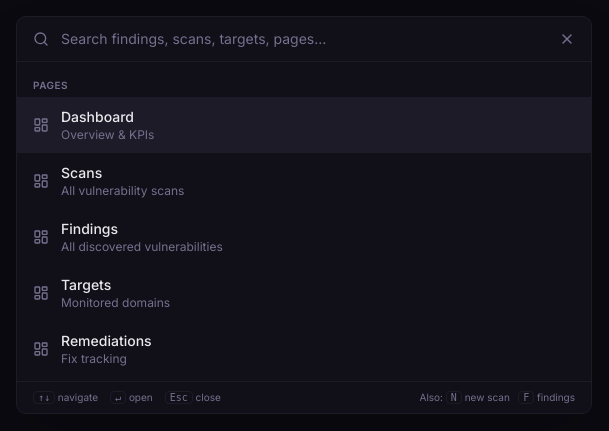
Test case: CommandPalette › filters page results when the user types
Type "cvss" into the field with placeholder "Search findings, scans, targets, pages…".
click(304, 38); type("cvss")  # box [61, 28, 547, 48]
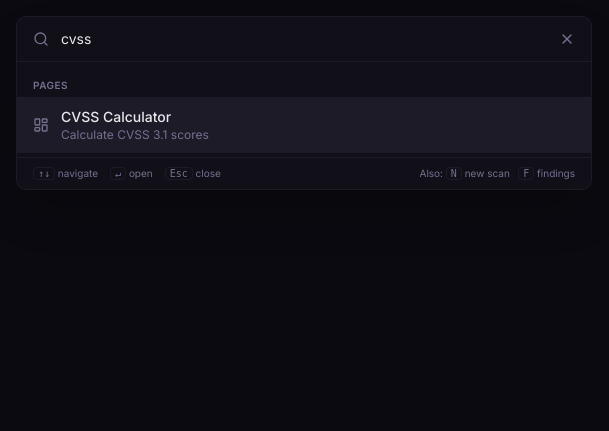
Result: the text "CVSS Calculator" is shown at [61, 108, 171, 124]
Result: the button "Scans" is gone
